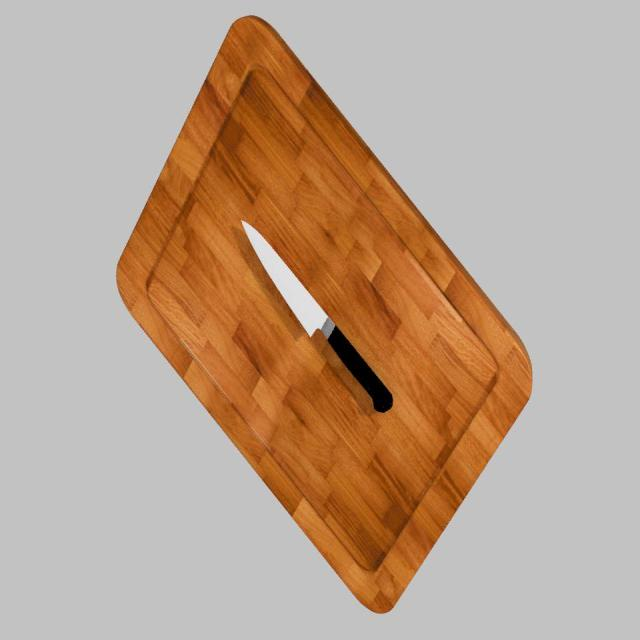knife: (328, 325, 393, 413)
